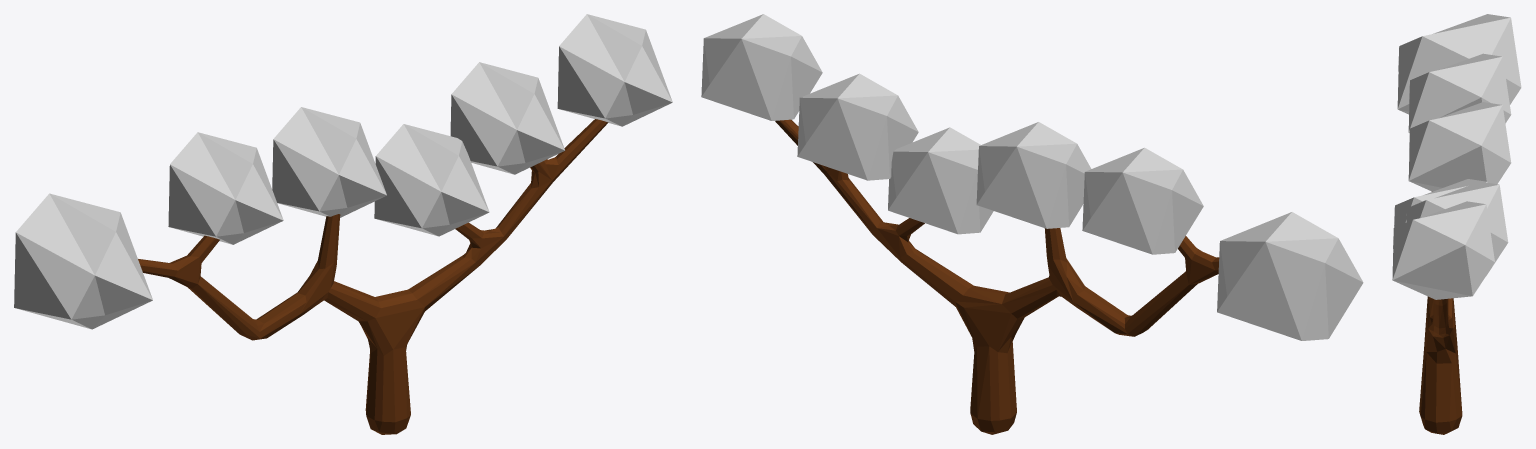
Rendered from tree3.fbx.
3 renders of one model, left to right at view 1: azimuth 30°, elevation 25°; view 2: azimuth 150°, elevation 25°; view 3: azimuth 270°, elevation 25°, orthographic. The views are drawn at different scales.
Visible parts, largest first — view 1: Cube, Icosphere, Icosphere.005, Icosphere.001, Icosphere.002, Icosphere.003, Icosphere.004; view 2: Cube, Icosphere, Icosphere.001, Icosphere.005, Icosphere.004, Icosphere.002, Icosphere.003; view 3: Icosphere.005, Icosphere.002, Icosphere, Icosphere.001, Cube, Icosphere.004, Icosphere.003.
Boxes of the visible parts, x1,y1,x2,y2 form: Cube: [138, 119, 608, 434]; Icosphere: [14, 193, 152, 329]; Icosphere.005: [557, 14, 672, 126]; Icosphere.001: [168, 132, 283, 244]; Icosphere.002: [272, 107, 386, 217]; Icosphere.003: [374, 124, 489, 236]; Icosphere.004: [450, 62, 564, 174]; Cube: [775, 119, 1219, 434]; Icosphere: [1217, 212, 1363, 340]; Icosphere.001: [1082, 147, 1203, 254]; Icosphere.005: [701, 14, 822, 120]; Icosphere.004: [797, 73, 918, 180]; Icosphere.002: [976, 122, 1091, 228]; Icosphere.003: [888, 127, 993, 234]; Icosphere.005: [1392, 201, 1494, 299]; Icosphere.002: [1408, 102, 1511, 191]; Icosphere: [1397, 14, 1521, 114]; Icosphere.001: [1408, 53, 1511, 133]; Cube: [1419, 296, 1462, 434]; Icosphere.004: [1406, 181, 1508, 275]; Icosphere.003: [1394, 179, 1487, 227].
Size of the model in its own units: 1141 by 609 by 215.
